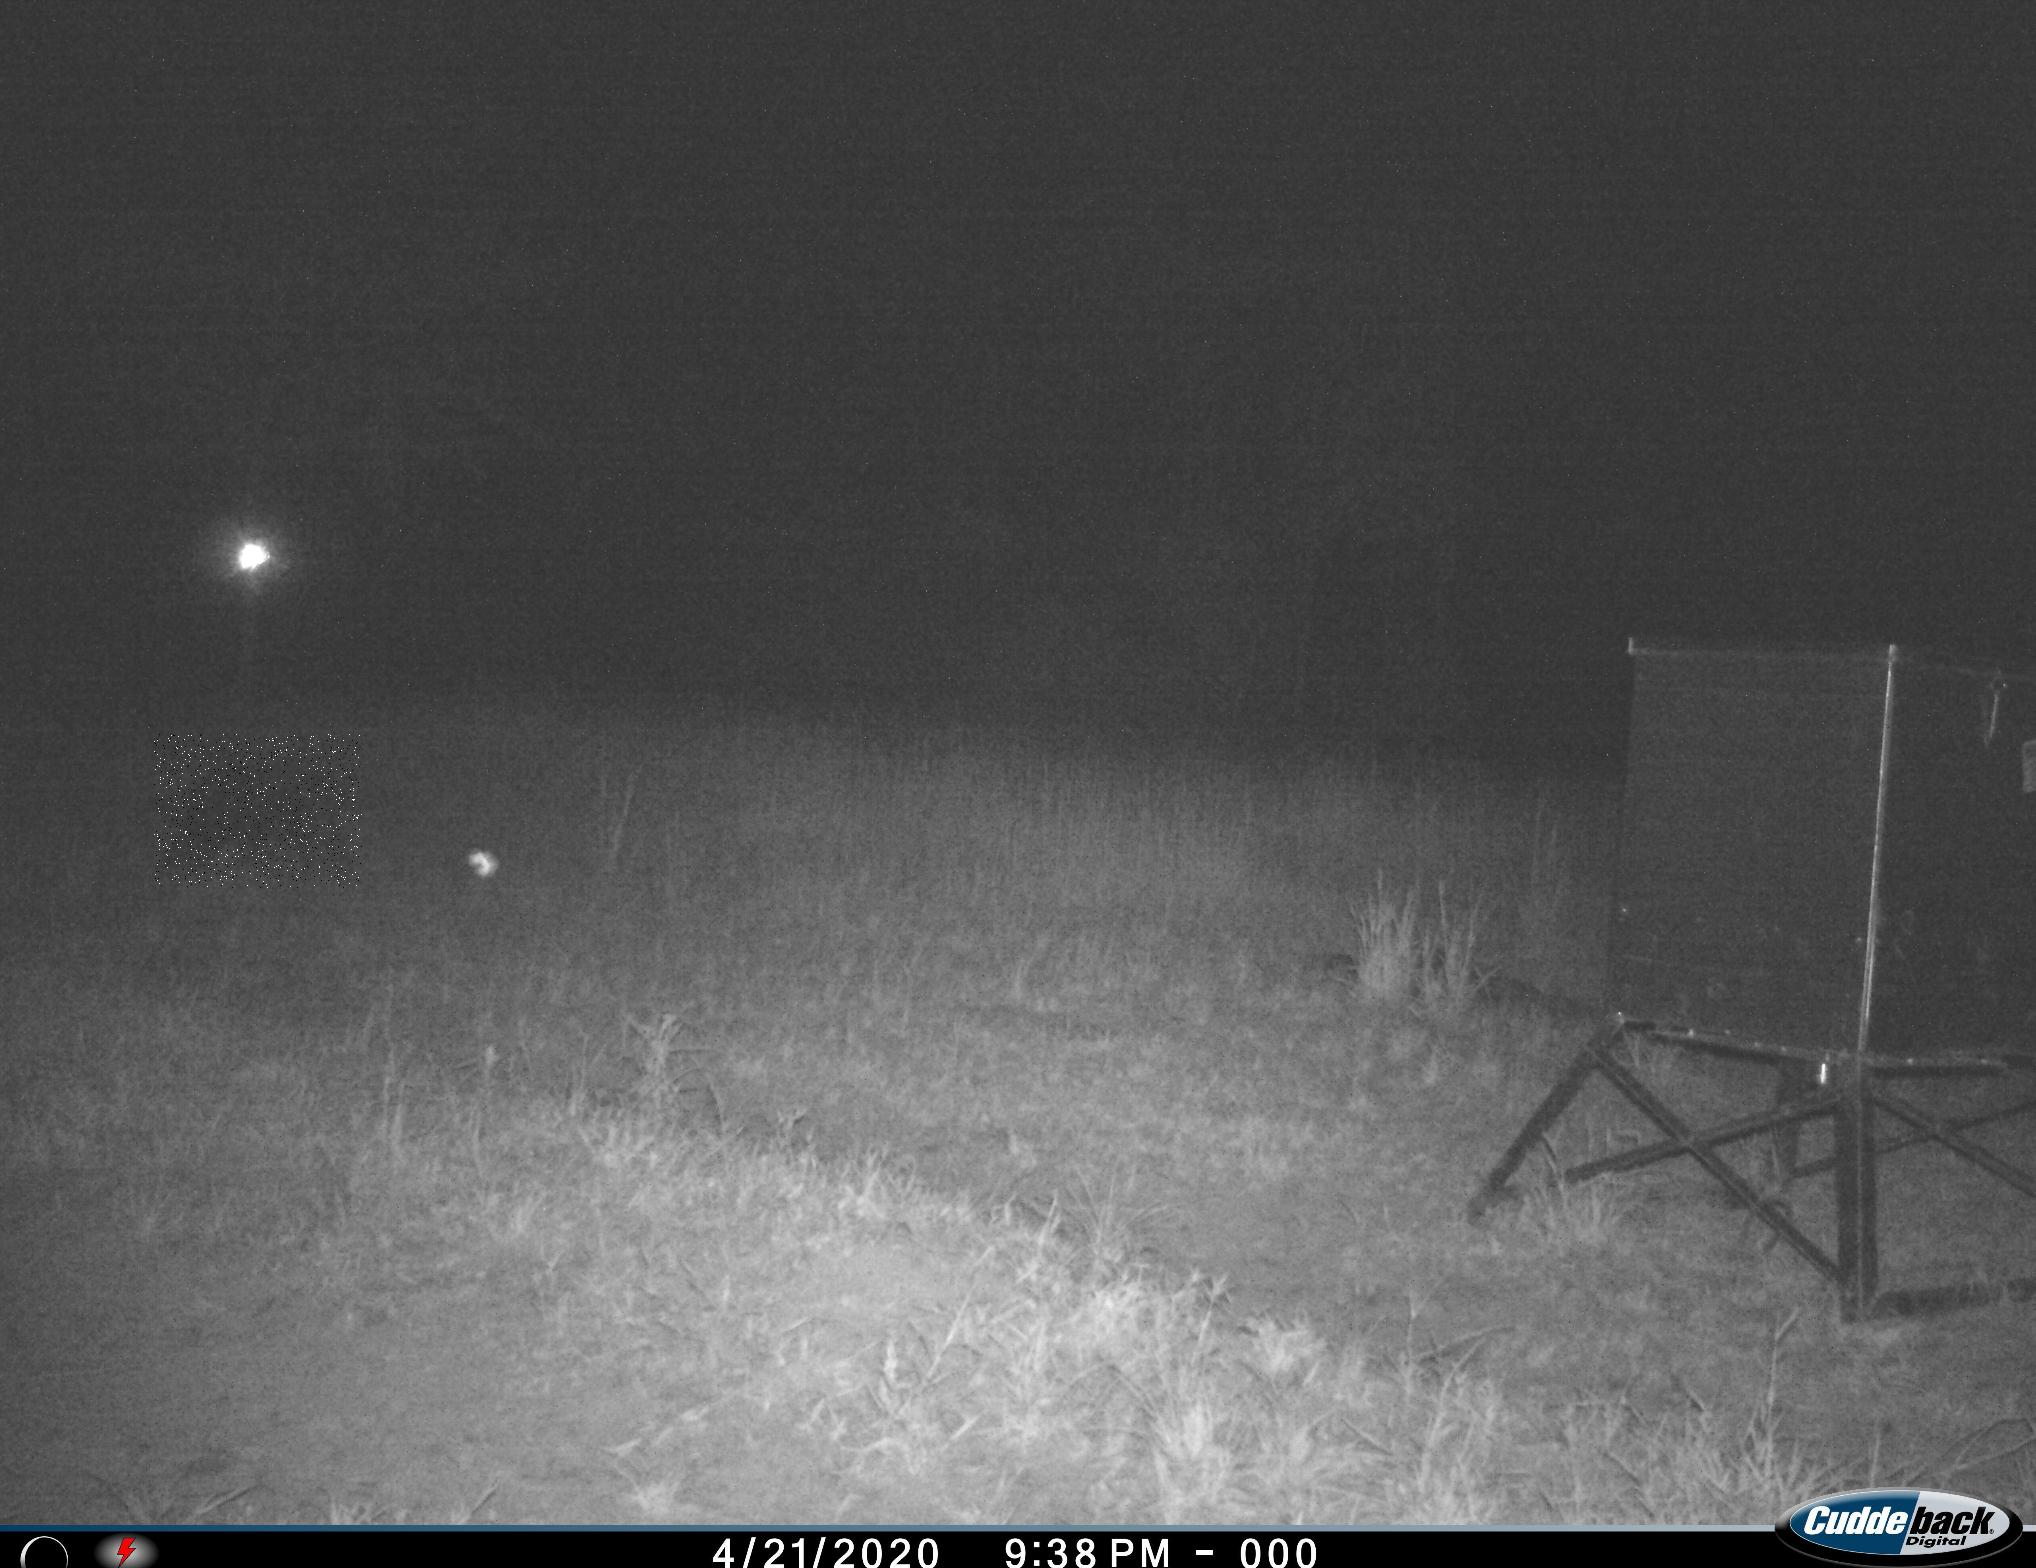Hog: (155, 733, 362, 888)
